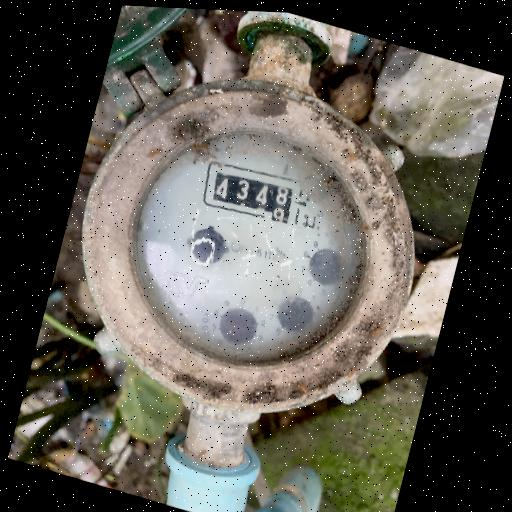3: (230, 175, 258, 210)
4: (248, 179, 279, 215), (210, 170, 239, 206)
8: (269, 183, 296, 225)
border_water_meter_number: (198, 153, 308, 233)
